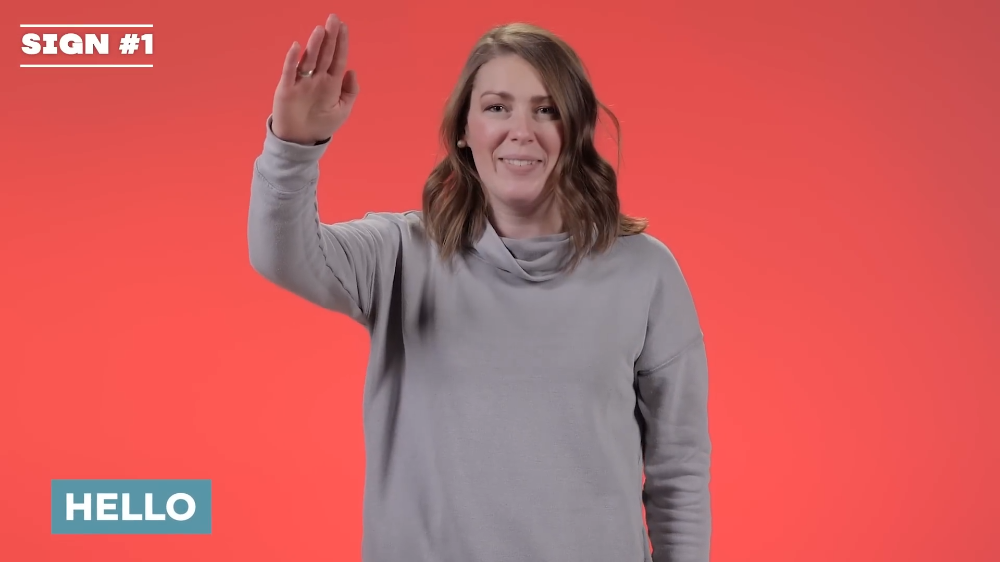hello: (267, 4, 361, 147)
